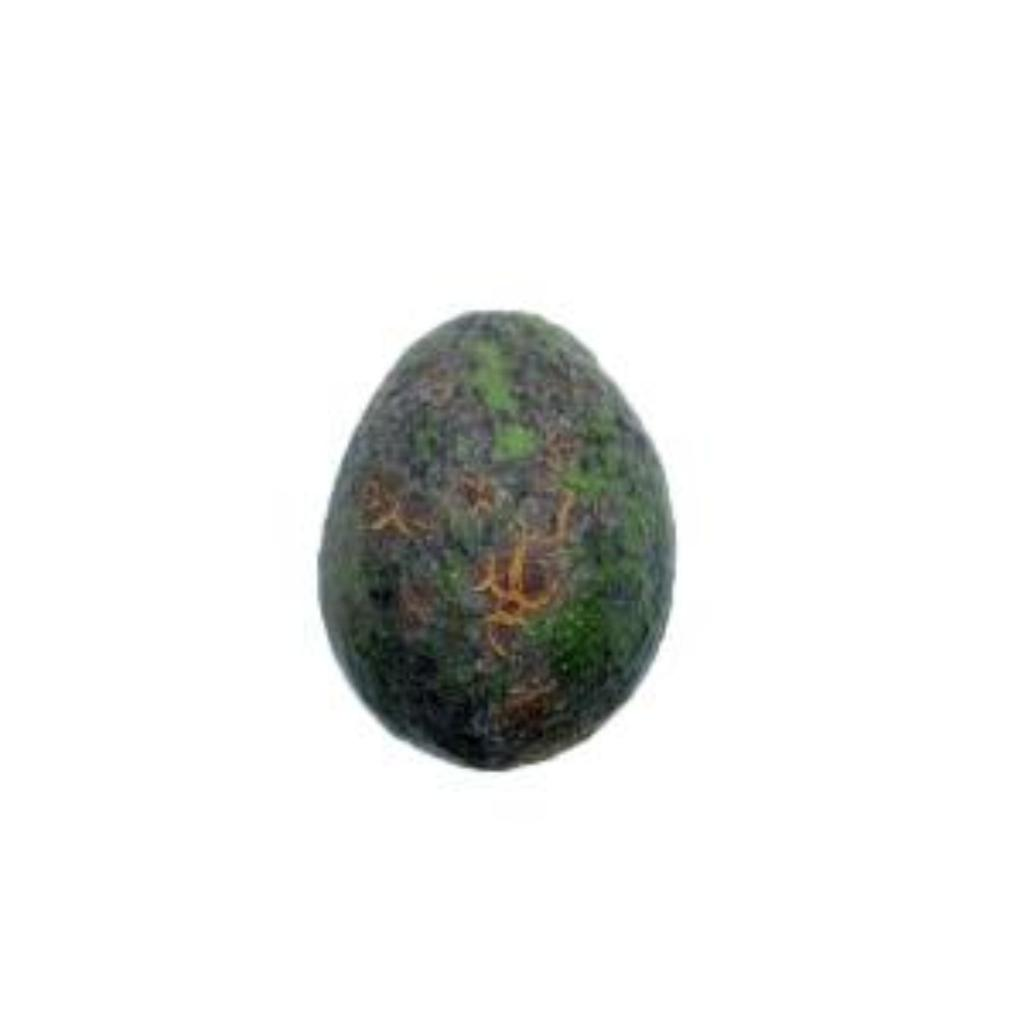cercospora: (303, 304, 682, 772)
